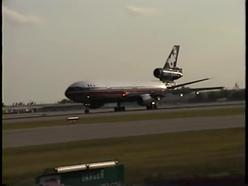aircraft: (63, 43, 224, 113)
